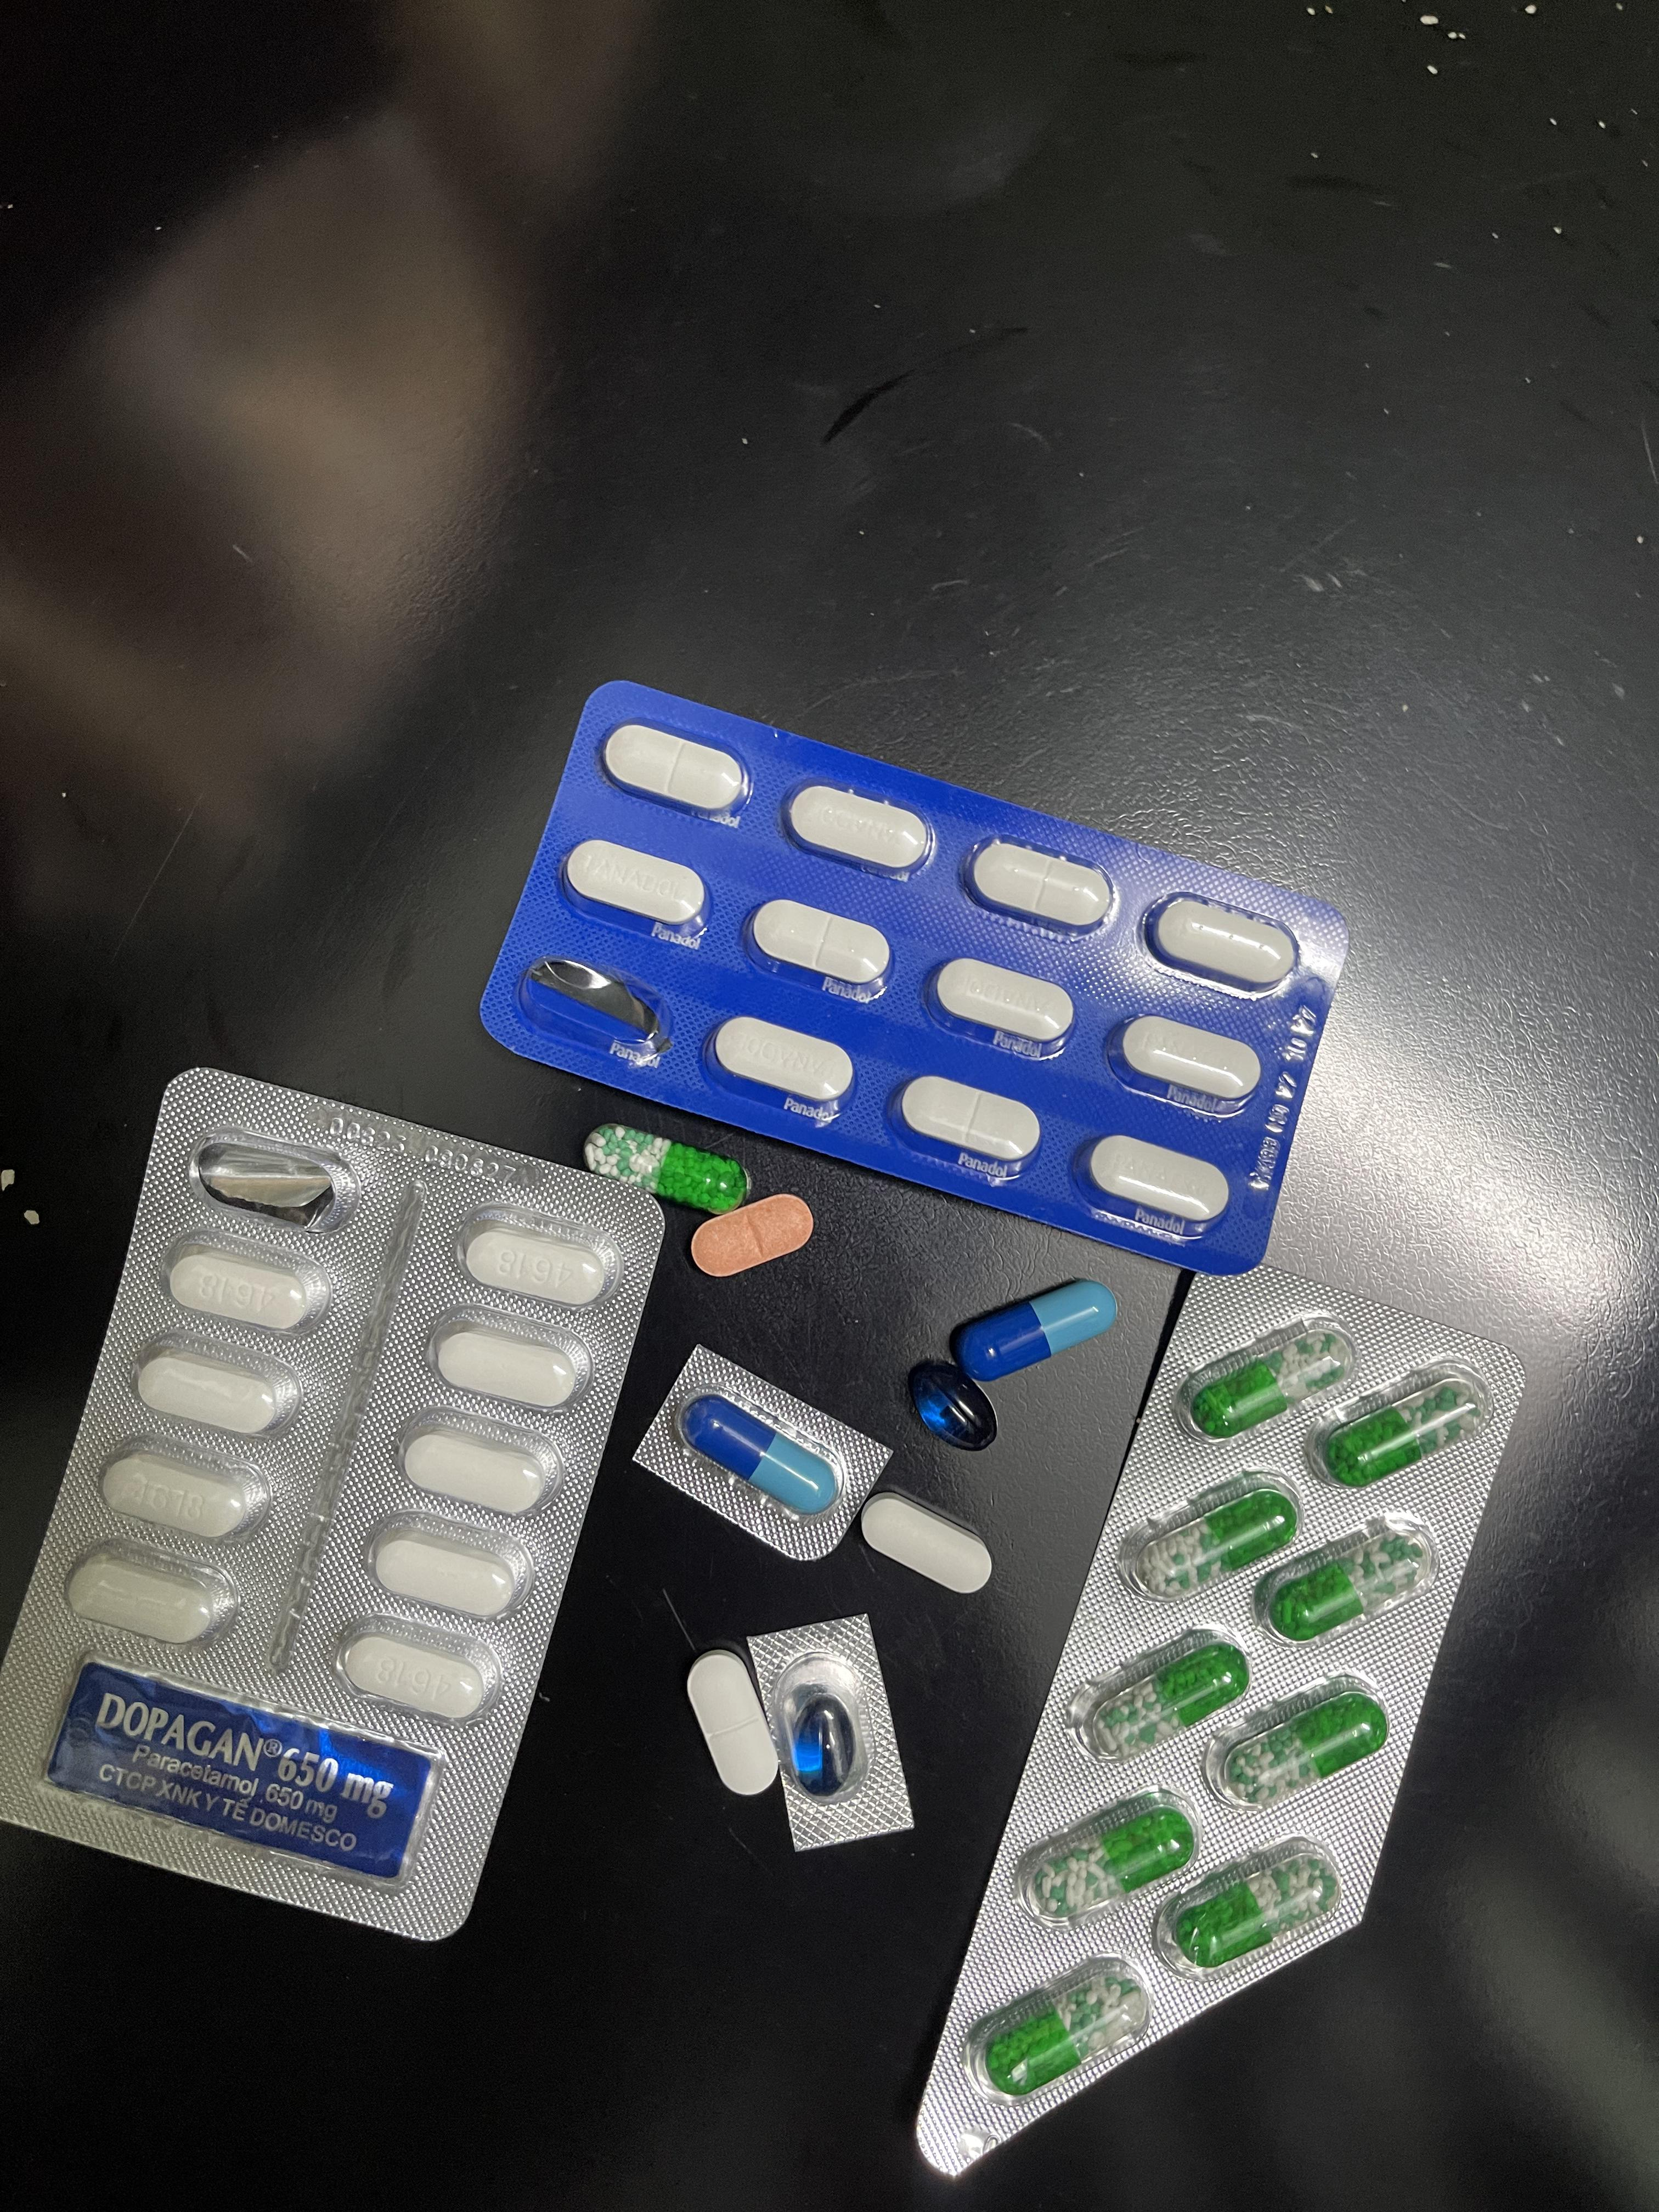Lincomyxin_500mg: (907, 1359, 1000, 1449), (790, 1696, 856, 1795)
Loratadine_10mg: (689, 1195, 813, 1278)
Paracetamol_350mg: (1145, 896, 1300, 996), (784, 782, 938, 881), (563, 838, 709, 937), (709, 1015, 856, 1113), (686, 1649, 781, 1798), (967, 836, 1115, 932), (893, 1074, 1041, 1170), (929, 957, 1077, 1051), (1114, 1014, 1262, 1108), (747, 899, 889, 994), (602, 723, 746, 816), (1082, 1134, 1227, 1225)
Paracetamol_500mg: (67, 1541, 245, 1647), (97, 1441, 273, 1542), (395, 1412, 564, 1514), (335, 1618, 502, 1721), (365, 1515, 534, 1616), (162, 1237, 331, 1334), (860, 1490, 992, 1593), (136, 1351, 292, 1433), (435, 1331, 582, 1410), (464, 1231, 607, 1306)
Paracetamol_650mg: (1152, 1837, 1341, 1983), (963, 1957, 1145, 2103), (1018, 1787, 1197, 1927), (1072, 1624, 1250, 1763), (1208, 1673, 1391, 1809), (1253, 1516, 1441, 1644), (1121, 1472, 1302, 1606), (1308, 1362, 1496, 1488), (1170, 1316, 1355, 1443), (585, 1128, 748, 1217)
pill: (681, 1393, 839, 1516), (949, 1279, 1115, 1386)
